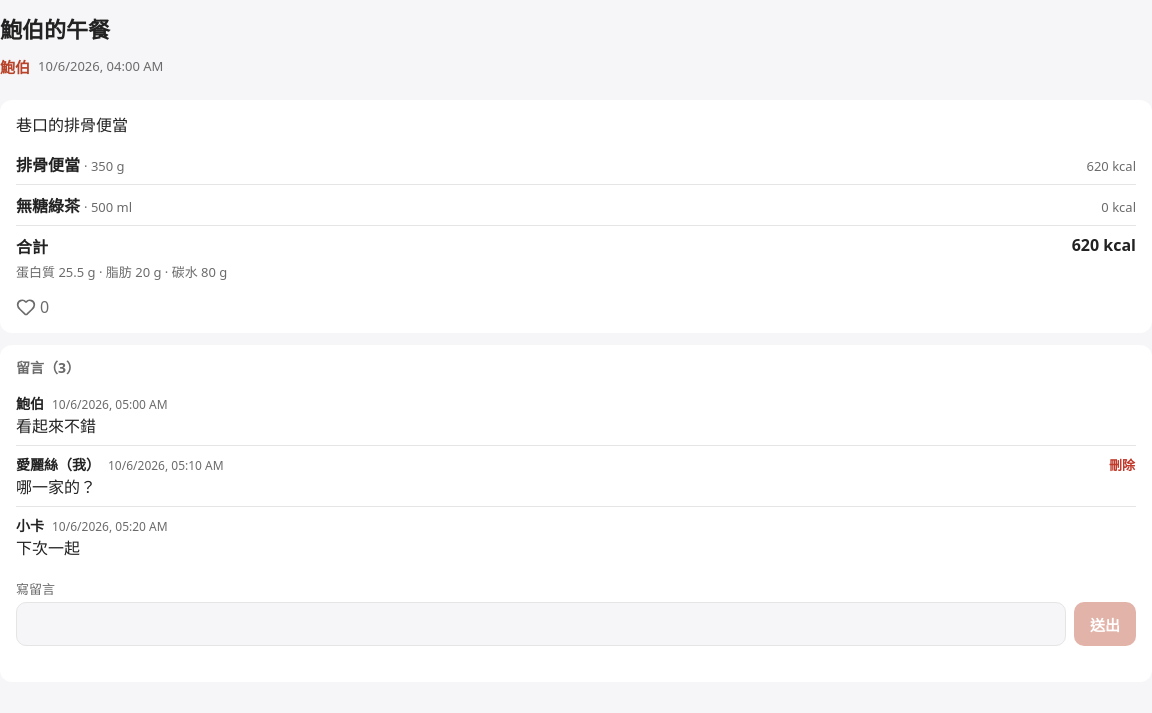
餐點頁：留言 › 送出一則：出現在清單最後，標題的數字跟著變
The width and height of the screenshot is (1152, 713).
Expected: the heading "留言（3）" is shown, [16,358,80,377]
Type "我也要" into the field labelled "寫留言" at (541, 624), box [16,602,1066,646]
Then press Enter
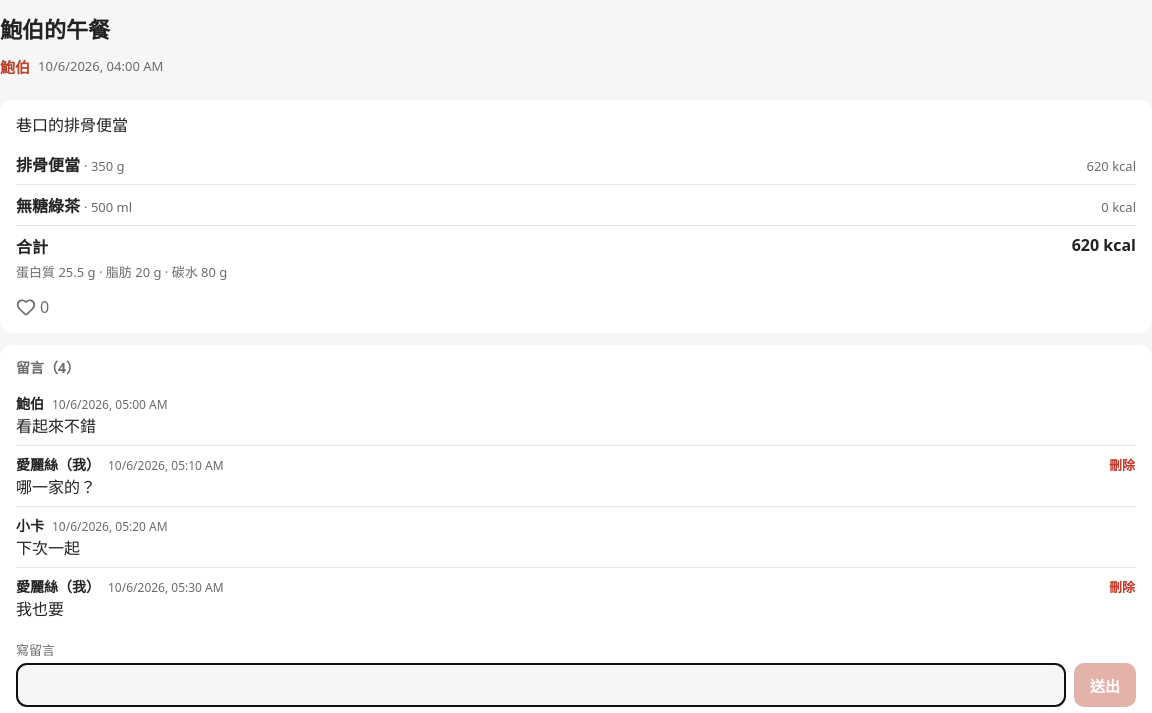
Result: the heading "留言（4）" is shown at [16,358,80,377]
Result: the list item "愛麗絲（我） 10/6/2026, 05:30 AM 刪除 我也要" is shown at [16,568,1136,628]
